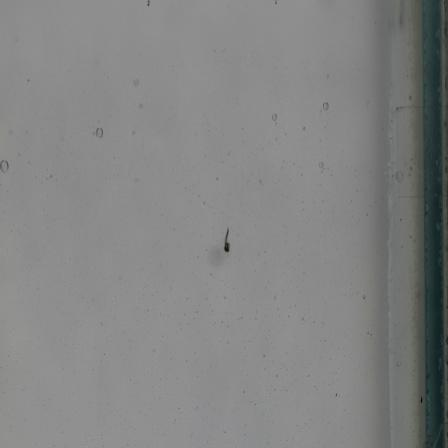Jentik-Nyamuk: (219, 225, 234, 256)
